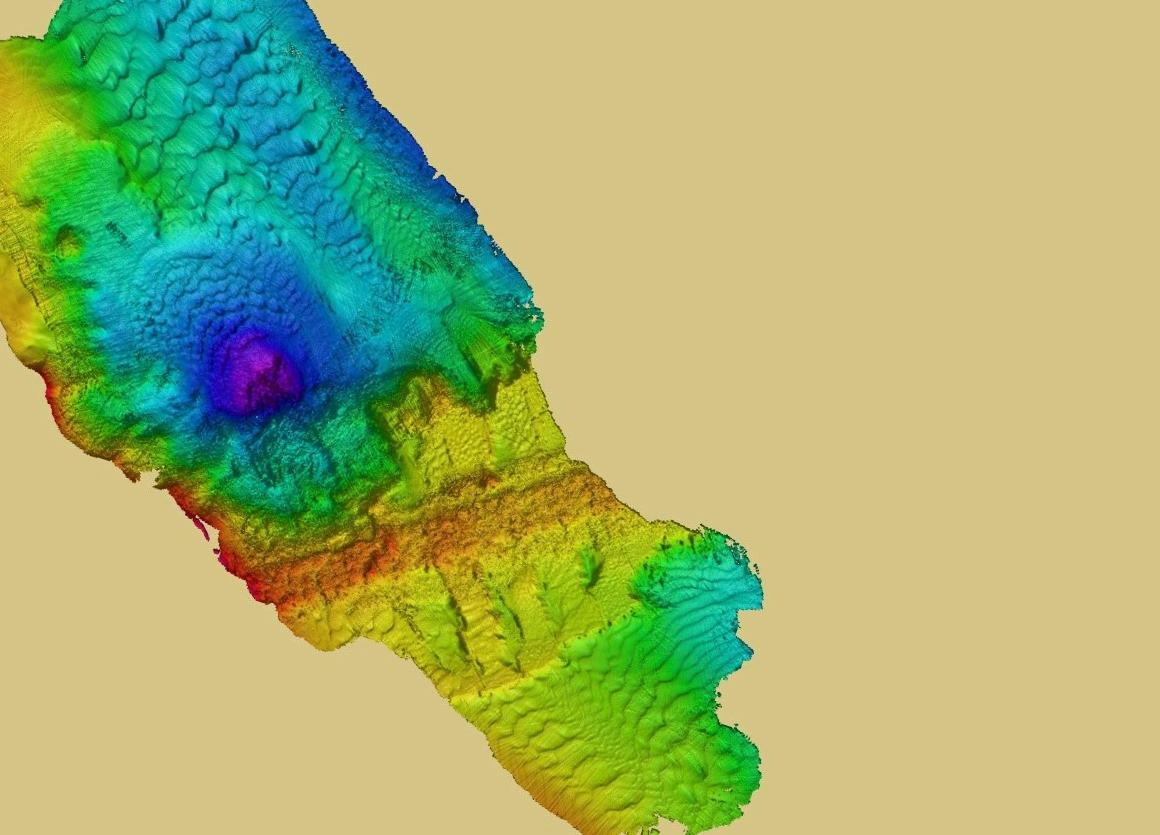Dune: (67, 1, 287, 245), (610, 687, 823, 828), (507, 694, 666, 811), (123, 258, 301, 352), (271, 105, 370, 240), (644, 577, 713, 700)
Scarp: (33, 346, 161, 512), (156, 438, 270, 610), (3, 316, 74, 440)
Scour pit: (195, 315, 343, 453)
Submerged dike: (389, 452, 709, 579), (230, 495, 451, 653)
